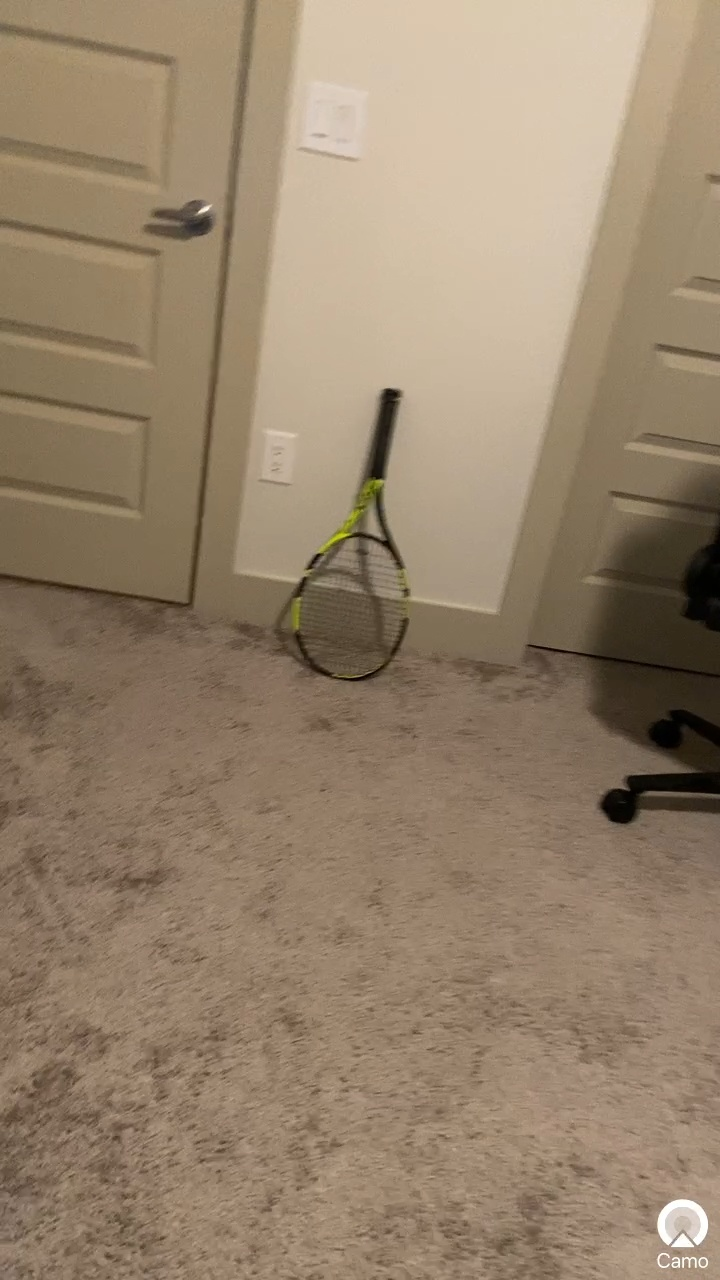Tennis_Racquet: (279, 378, 452, 694)
